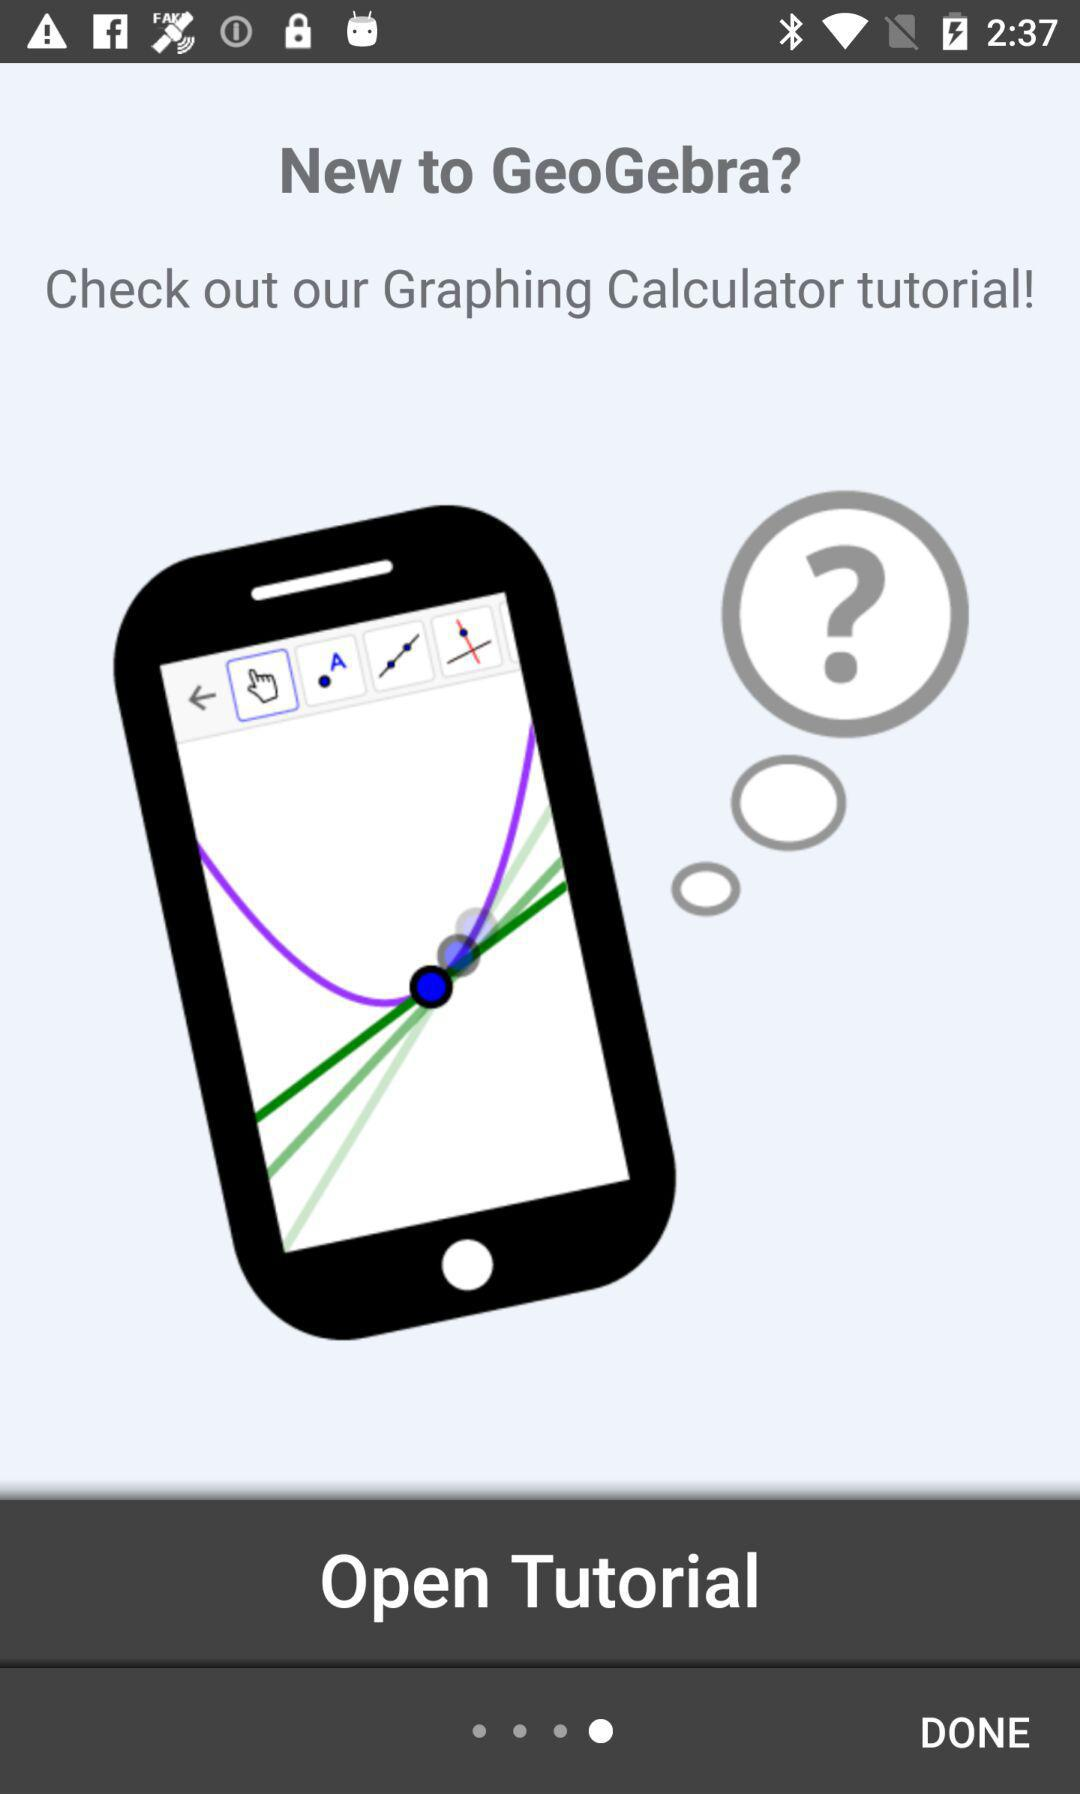Image: (113, 488, 971, 1343)
PageIndicator: (471, 1717, 616, 1747)
Text: (46, 265, 1034, 322), (322, 1551, 758, 1625), (281, 144, 802, 197), (920, 1716, 1031, 1750)
UpperTaskBar: (1, 1, 1080, 64)
